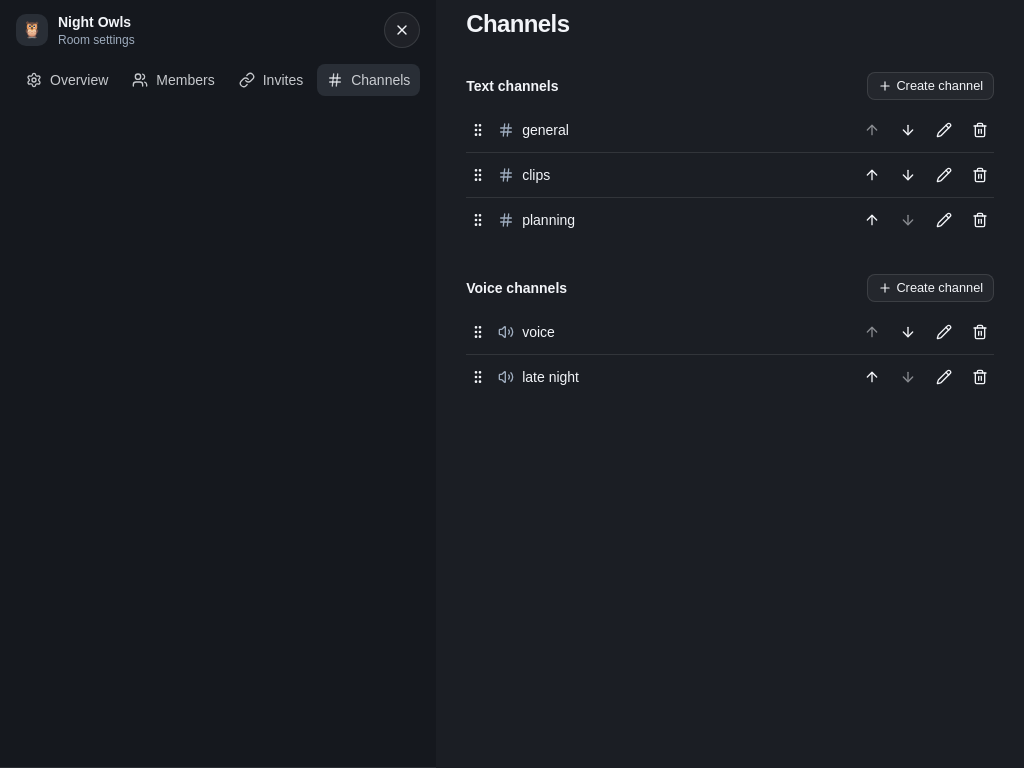
Test: CreateChannelDialog from Room settings › stays in settings and toasts "Created #name" for a text channel
Click the button "Create channel" in the row of "Text channels" at (931, 86), box [867,72,994,100]
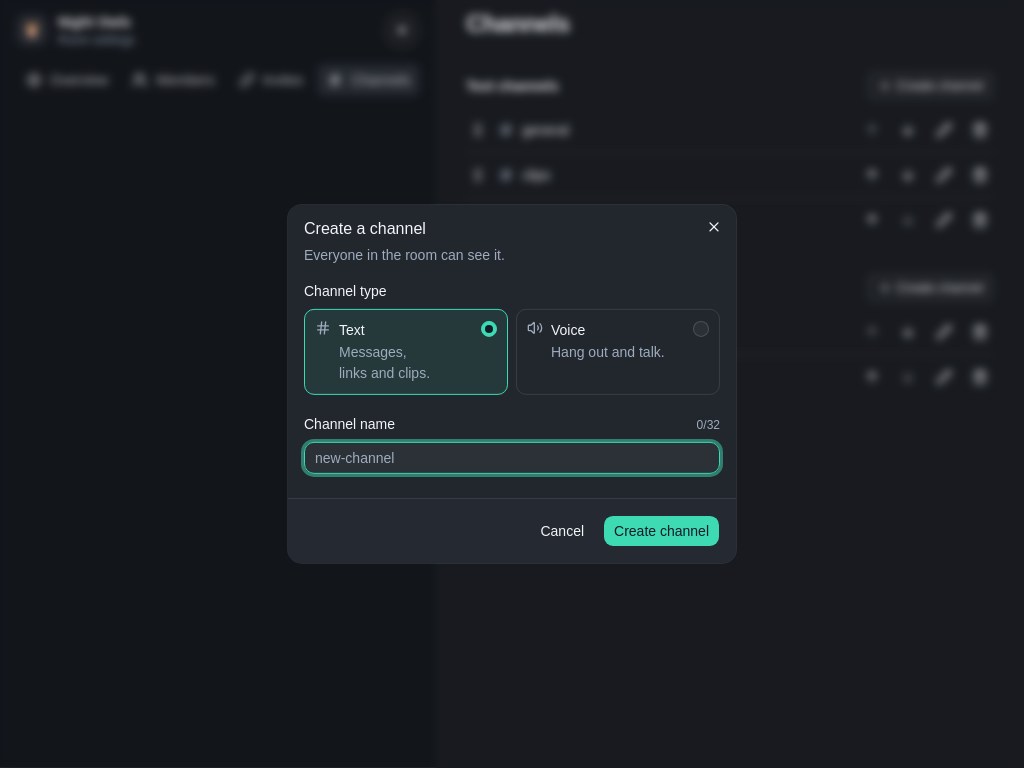
Type "memes" into the field labelled "Channel name" at (512, 458), box [304,442,720,474]
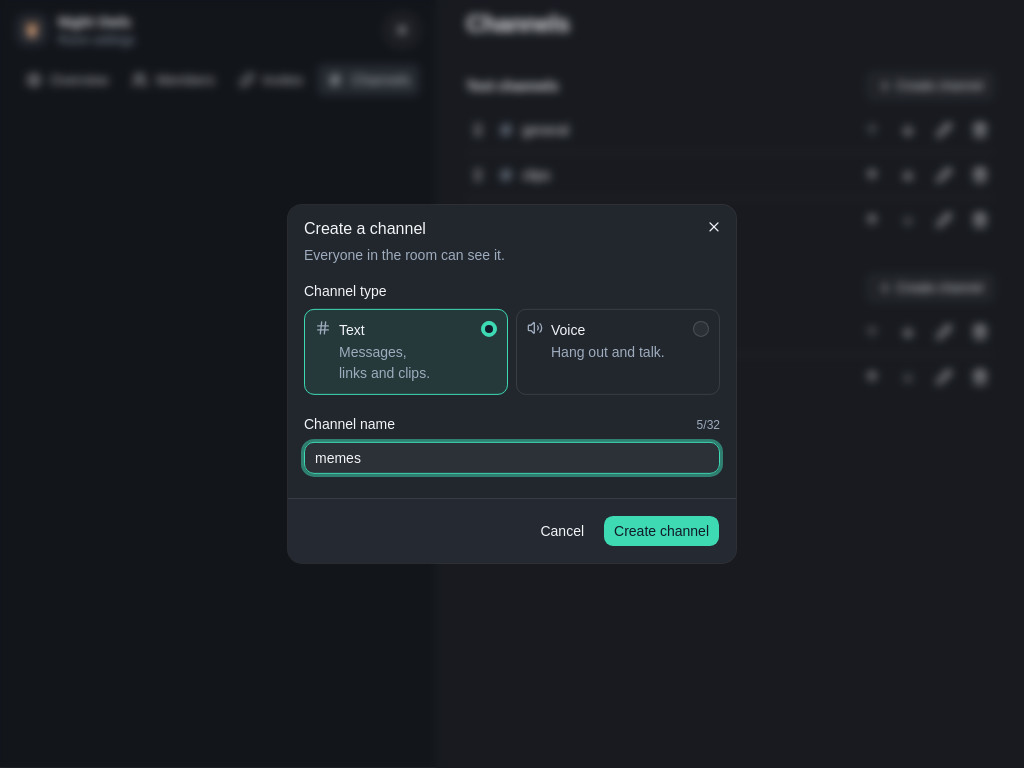
Click the button "Create channel" at (662, 531), box [603,515,720,547]
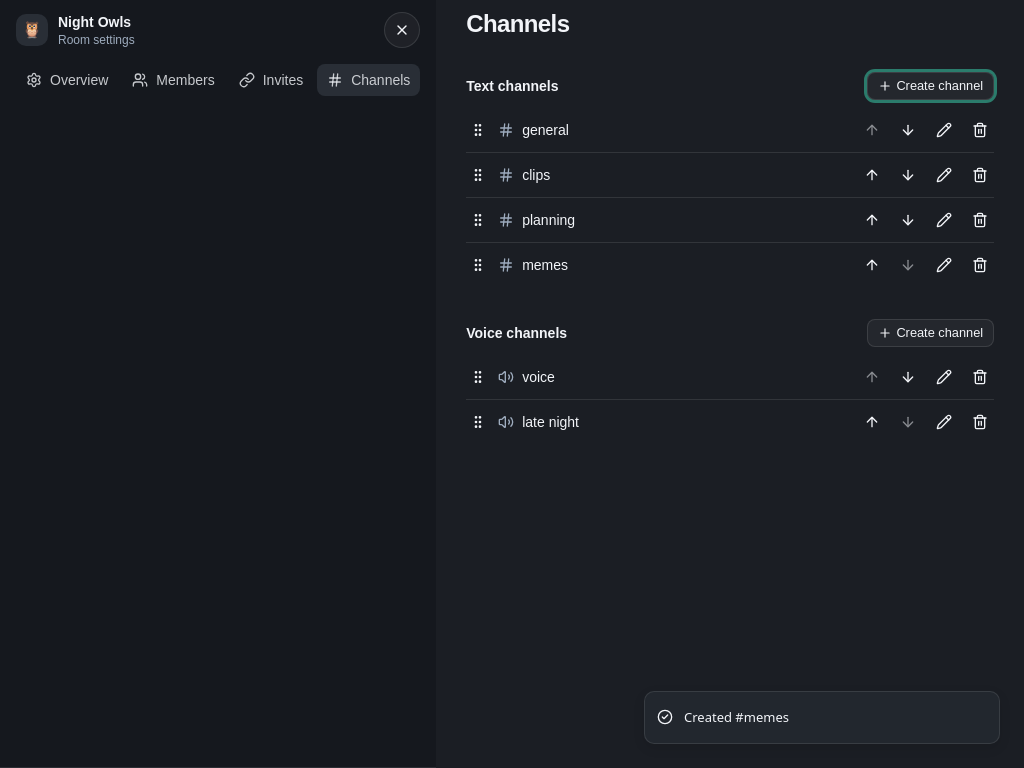
Expected: the list items read "general", "clips", "planning", "memes", in this order, [466,108,994,153]; [466,153,994,198]; [466,198,994,243]; [466,243,994,287]
